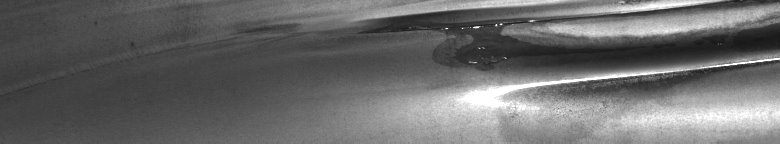ke: (240, 4, 776, 118)
